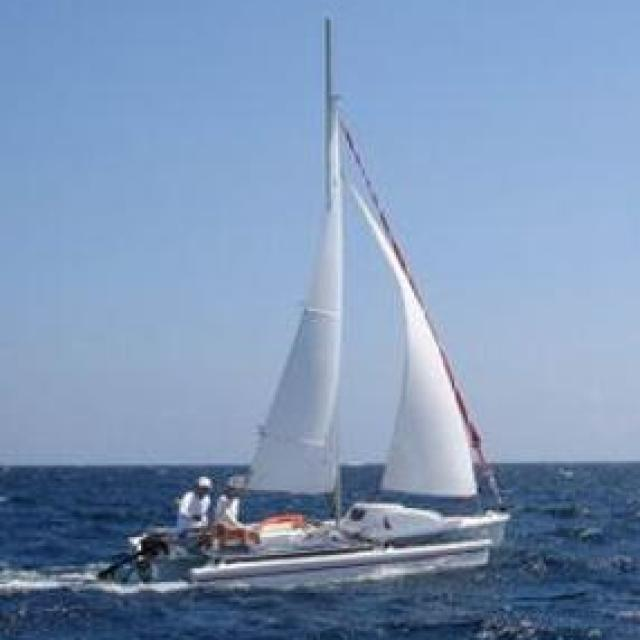sailboat: (172, 15, 510, 583)
